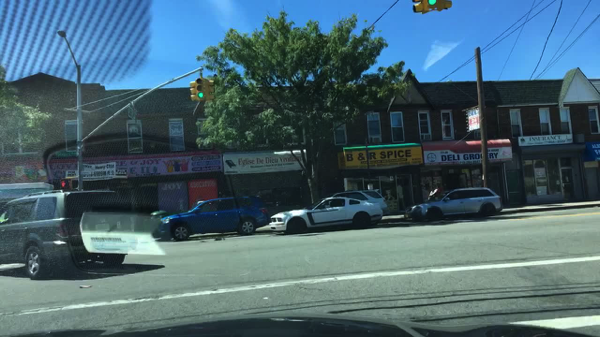car: (0, 190, 131, 282), (152, 195, 271, 242), (269, 196, 384, 235), (403, 187, 503, 223), (320, 189, 391, 216)
traffic light: (206, 79, 215, 101), (197, 78, 205, 102), (424, 1, 441, 11), (411, 1, 423, 14), (189, 82, 197, 101), (60, 178, 72, 190), (442, 1, 451, 10)
traffic sign: (54, 151, 77, 157), (128, 107, 138, 120)
